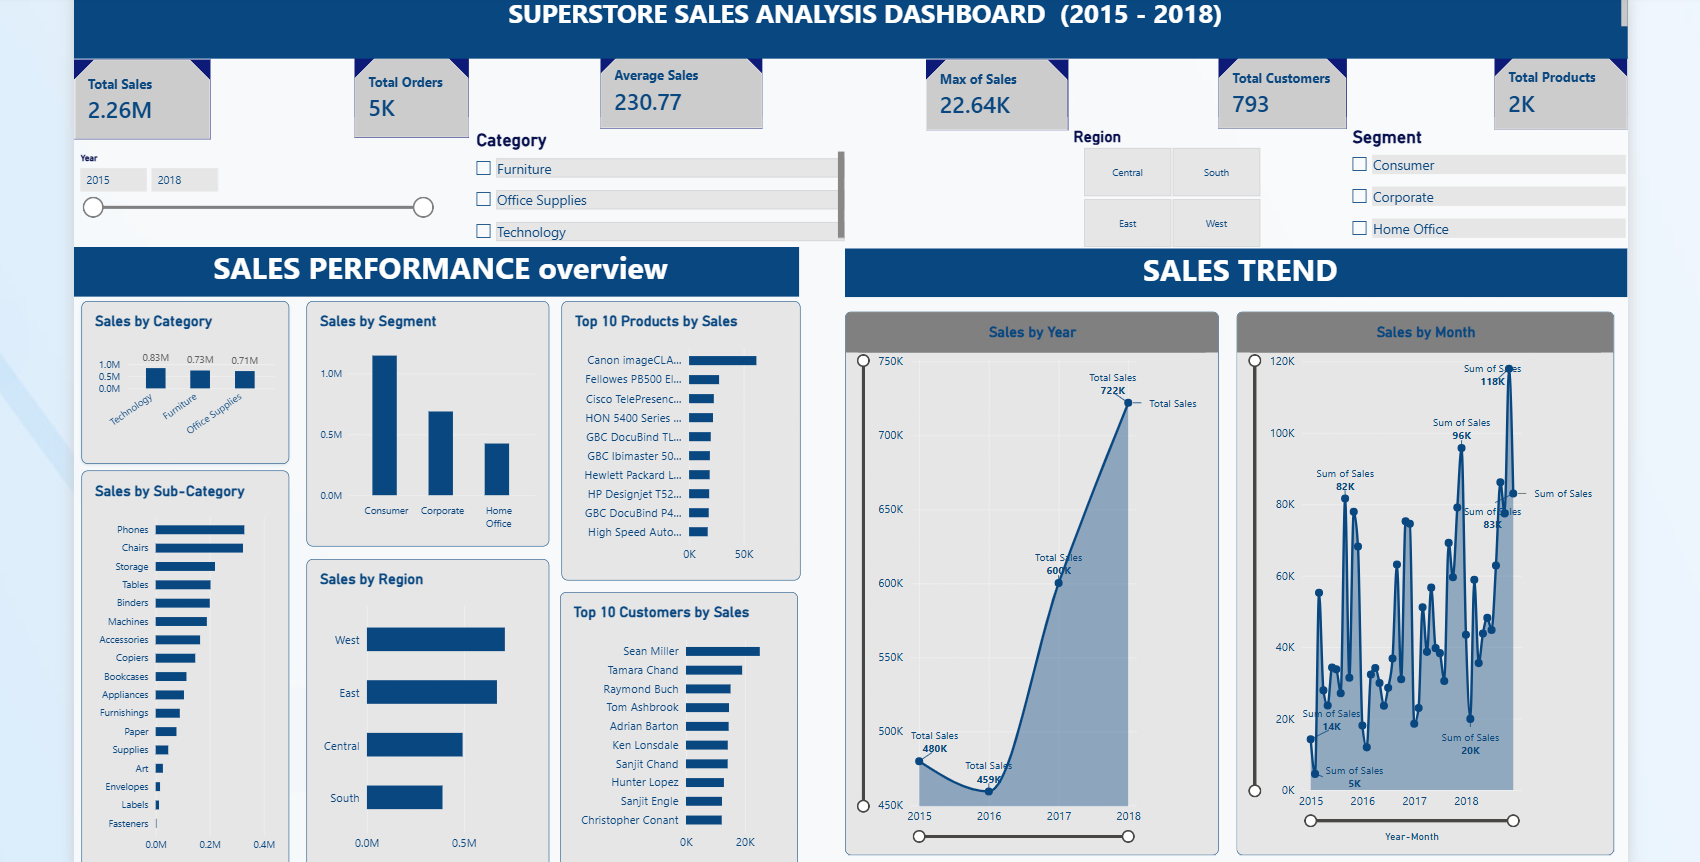

The dashboard page shown, as its layout file describes it:
{"tool":"powerbi","page":{"name":"Page 1","canvas":[1920,1080],"ordinal":0},"visuals":[{"type":"cardVisual","fields":{"Data":["cleaned_superstore.Total Sales"]},"box":[0,79.6,168.6,98.6],"z":0},{"type":"cardVisual","fields":{"Data":["cleaned_superstore.Total Orders"]},"box":[347.5,77.5,141.4,98.6],"z":1},{"type":"cardVisual","fields":{"Data":["cleaned_superstore.Total Customers"]},"box":[1415,77.5,158.6,87.1],"z":2},{"type":"cardVisual","fields":{"Data":["cleaned_superstore.Total Products"]},"box":[1755,76.7,164.3,90],"z":3},{"type":"cardVisual","fields":{"Data":["cleaned_superstore.Average Sales"]},"box":[650,72.2,200,92.9],"z":4},{"type":"columnChart","title":"Sales by Category","fields":{"Category":["cleaned_superstore.Category"],"Y":["cleaned_superstore.Total Sales"]},"box":[10,378.9,256.7,201.1],"z":6},{"type":"barChart","title":"Sales by Region","fields":{"Category":["cleaned_superstore.Region"],"Y":["cleaned_superstore.Total Sales"]},"box":[287.1,697.1,300,382.9],"z":7},{"type":"columnChart","title":"Sales by Segment","fields":{"Category":["cleaned_superstore.Segment"],"Y":["cleaned_superstore.Total Sales"]},"box":[286.7,378.3,300,303.3],"z":8},{"type":"barChart","title":"Sales by Sub-Category","fields":{"Category":["cleaned_superstore.Sub-Category"],"Y":["cleaned_superstore.Total Sales"]},"box":[10,587.8,256.7,492.2],"z":9},{"type":"lineChart","title":"Sales by Year","fields":{"Category":["cleaned_superstore.Year-Month.Variation.Date Hierarchy.Year","cleaned_superstore.Year-Month.Variation.Date Hierarchy.Quarter","cleaned_superstore.Year-Month.Variation.Date Hierarchy.Month","cleaned_superstore.Year-Month.Variation.Date Hierarchy.Day"],"Y":["cleaned_superstore.Total Sales"]},"box":[953.3,391.7,461.7,671.7],"z":10},{"type":"barChart","title":"Top 10 Customers by Sales","fields":{"Category":["cleaned_superstore.Customer Name"],"Y":["cleaned_superstore.Total Sales"]},"box":[601.4,738.6,294.3,341.4],"z":12},{"type":"textbox","box":[1640,0,280,80],"z":24},{"type":"cardVisual","fields":{"Data":["Max(cleaned_superstore.Sales)"]},"box":[1052.5,80,175.7,87.1],"z":25},{"type":"slicer","fields":{"Values":["cleaned_superstore.Year"]},"box":[0,195,447.5,97.5],"z":28},{"type":"slicer","fields":{"Values":["cleaned_superstore.Category"]},"box":[490,167.5,462.5,145],"z":29},{"type":"slicer","fields":{"Values":["cleaned_superstore.Region"]},"box":[1227.5,162.5,257.5,150],"z":30},{"type":"textbox","box":[0,0,1920,78.3],"z":32},{"type":"lineChart","title":"Sales by Month","fields":{"Category":["cleaned_superstore.Year-Month"],"Y":["Sum(cleaned_superstore.Sales)"]},"box":[1436.7,391.7,466.7,671.7],"z":33},{"type":"clusteredBarChart","title":"Top 10 Products by Sales ","fields":{"Category":["cleaned_superstore.Product Name"],"Y":["cleaned_superstore.Total Sales"]},"box":[602.5,377.5,295,345],"z":34},{"type":"slicer","fields":{"Values":["cleaned_superstore.Segment"]},"box":[1572.5,162.5,345,150],"z":35},{"type":"textbox","box":[953.3,313.3,966.7,60],"z":36},{"type":"textbox","box":[0,312.2,895.9,61.2],"z":37}]}

Visuals, with their boxes in screenshot pixels (x1, y1, x2, y2):
cardVisual - cleaned_superstore.Total Sales: x1=66, y1=56, x2=204, y2=137
cardVisual - cleaned_superstore.Total Orders: x1=350, y1=54, x2=466, y2=135
cardVisual - cleaned_superstore.Total Customers: x1=1223, y1=54, x2=1352, y2=126
cardVisual - cleaned_superstore.Total Products: x1=1501, y1=54, x2=1635, y2=127
cardVisual - cleaned_superstore.Average Sales: x1=598, y1=50, x2=761, y2=126
"Sales by Category" columnChart: x1=75, y1=301, x2=284, y2=465
"Sales by Region" barChart: x1=301, y1=561, x2=546, y2=861
"Sales by Segment" columnChart: x1=301, y1=300, x2=546, y2=548
"Sales by Sub-Category" barChart: x1=75, y1=472, x2=284, y2=861
"Sales by Year" lineChart: x1=846, y1=311, x2=1223, y2=860
"Top 10 Customers by Sales" barChart: x1=558, y1=595, x2=798, y2=861
textbox: x1=1407, y1=0, x2=1636, y2=57
cardVisual - Max(cleaned_superstore.Sales): x1=927, y1=57, x2=1070, y2=128
slicer - cleaned_superstore.Year: x1=66, y1=151, x2=432, y2=230
slicer - cleaned_superstore.Category: x1=467, y1=128, x2=845, y2=247
slicer - cleaned_superstore.Region: x1=1070, y1=124, x2=1280, y2=247
textbox: x1=66, y1=0, x2=1636, y2=55
"Sales by Month" lineChart: x1=1241, y1=311, x2=1622, y2=860
"Top 10 Products by Sales " clusteredBarChart: x1=559, y1=300, x2=800, y2=582
slicer - cleaned_superstore.Segment: x1=1352, y1=124, x2=1634, y2=247
textbox: x1=846, y1=247, x2=1636, y2=296
textbox: x1=66, y1=246, x2=799, y2=296
